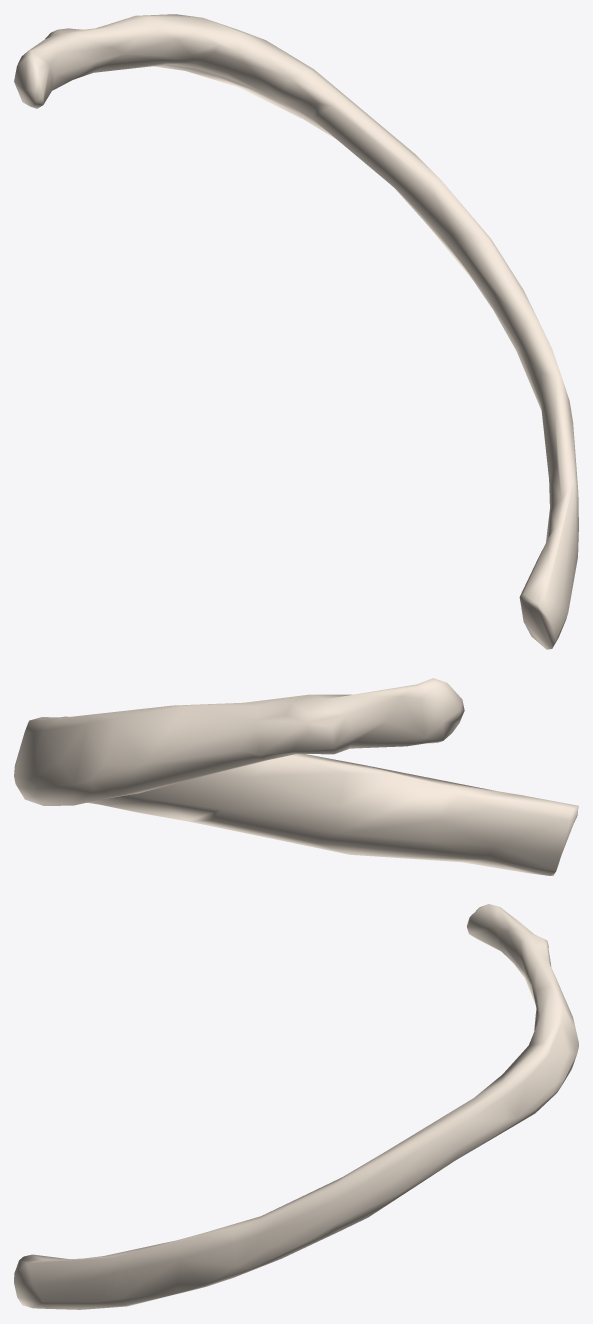
File: left_rib_5.glb
3 views of the same model, one above another, from view 1: azimuth 30°, elevation 25°; view 2: azimuth 150°, elevation 25°; view 3: azimuth 270°, elevation 25° (orthographic). The views are drawn at different scales.
Visible parts, largest first — view 1: Rib (5th).r; view 2: Rib (5th).r; view 3: Rib (5th).r.
Boxes of the visible parts, x1,y1,x2,y2 form: Rib (5th).r: (14, 14, 578, 649); Rib (5th).r: (14, 678, 578, 875); Rib (5th).r: (14, 904, 578, 1309).
Bounding box in the file's own units: 0.1114 × 0.1189 × 0.1884.
